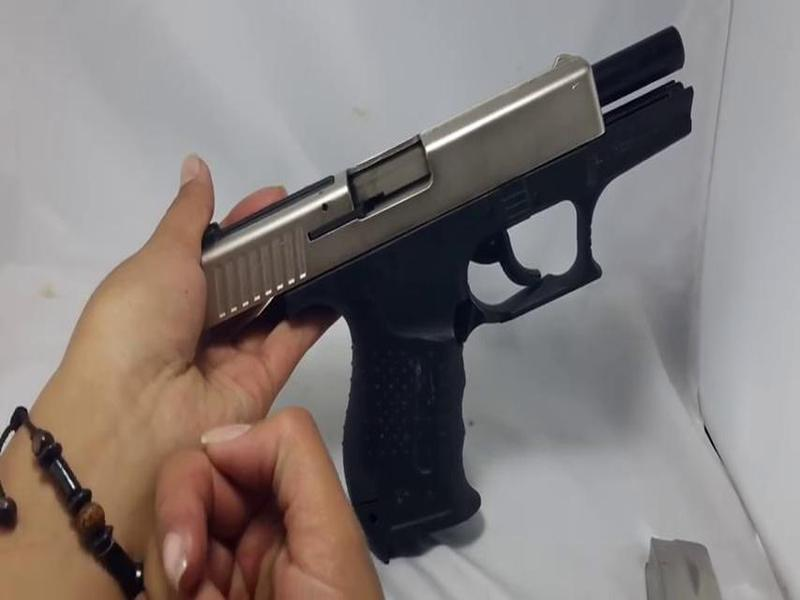Pistola: (187, 32, 717, 545)
